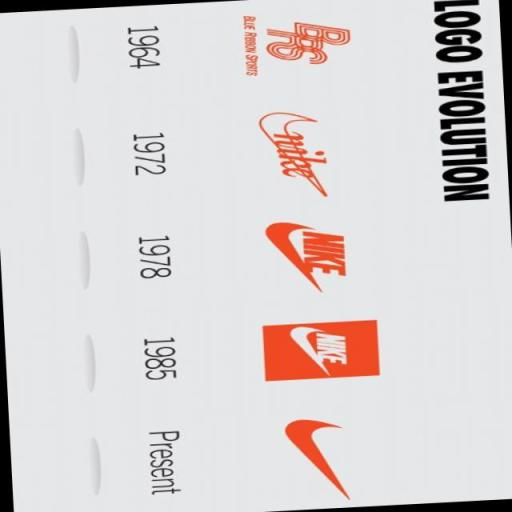Nike: (279, 415, 354, 505), (301, 230, 348, 277)
